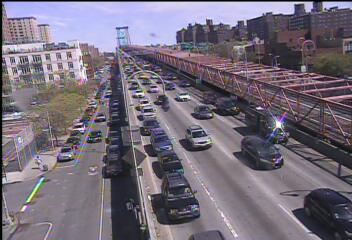neg: (318, 189, 335, 212), (270, 115, 285, 135), (29, 13, 43, 32), (155, 53, 168, 70), (179, 196, 191, 212), (234, 10, 244, 24), (302, 41, 312, 54)
pos: (33, 154, 44, 169)
